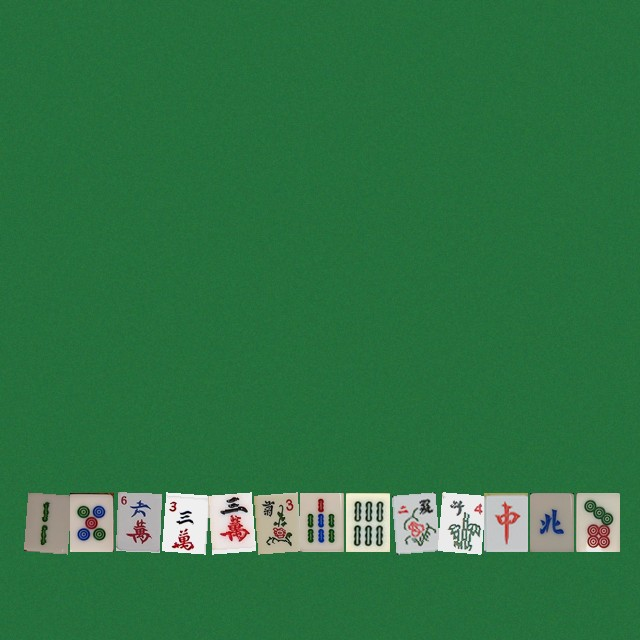tile: (23, 492, 67, 551), (69, 492, 113, 551), (115, 492, 159, 551), (161, 492, 205, 551), (207, 492, 251, 551), (253, 492, 297, 551), (299, 492, 343, 551), (345, 492, 389, 551), (391, 492, 435, 551), (437, 492, 481, 551), (483, 492, 527, 551), (529, 492, 573, 551), (575, 492, 619, 551)
